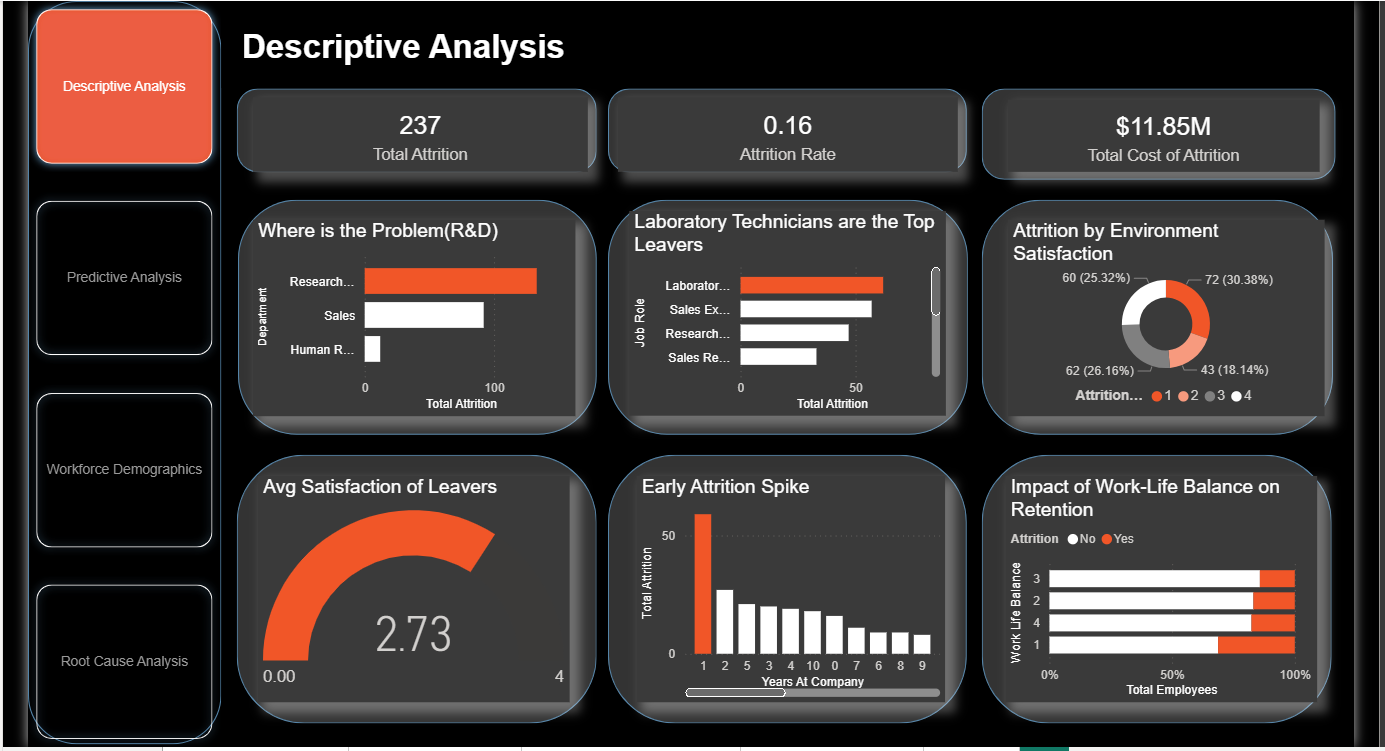

What the dashboard file says about the page in this screenshot:
{"tool":"powerbi","page":{"name":"Descriptive Analysis","canvas":[1280,720],"ordinal":0},"visuals":[{"type":"shape","box":[569.4,247.3,336.6,190.6],"z":1000},{"type":"shape","box":[929,247.3,330.6,190.6],"z":2000},{"type":"shape","box":[201.5,247.3,339,190.6],"z":3000},{"type":"shape","box":[201.5,106.2,339,111],"z":4000},{"type":"shape","box":[569.4,466.9,336.6,219.6],"z":5000},{"type":"shape","box":[929,466.9,329.4,220.8],"z":6000},{"type":"shape","box":[201.5,466.9,339,219.6],"z":7000},{"type":"shape","box":[929,106.2,330.6,111],"z":8000},{"type":"shape","box":[559.8,103.8,346.2,111],"z":9000},{"type":"card","fields":{"Values":["hr_project employee_data.Total Attrition"]},"box":[217.2,111,300.4,95.3],"z":10000},{"type":"card","fields":{"Values":["hr_project employee_data.Total Cost of Attrition"]},"box":[943.4,113.4,300.4,96.5],"z":11000},{"type":"card","fields":{"Values":["hr_project employee_data.Attrition Rate"]},"box":[573.1,111,319.7,95.3],"z":12000},{"type":"clusteredBarChart","title":"Where is the Problem(R&D)","fields":{"Category":["hr_project employee_data.Department"],"Y":["hr_project employee_data.Total Attrition"]},"box":[217.2,266.6,311.3,152],"z":13000},{"type":"textbox","box":[201.5,21.7,1058,60.3],"z":13500},{"type":"clusteredBarChart","title":"Laboratory Technicians are the Top Leavers","fields":{"Category":["hr_project employee_data.JobRole"],"Y":["hr_project employee_data.Total Attrition"]},"box":[587.5,266.6,305.2,152],"z":14000},{"type":"donutChart","title":"Attrition by Environment Satisfaction","fields":{"Category":["hr_project employee_data.EnvironmentSatisfaction"],"Y":["hr_project employee_data.Total Attrition"]},"box":[943.4,271.4,305.2,152],"z":15000},{"type":"clusteredColumnChart","title":"Early Attrition Spike","fields":{"Category":["hr_project employee_data.YearsAtCompany"],"Y":["hr_project employee_data.Total Attrition"]},"box":[587.5,486.2,305.2,166.5],"z":16000},{"type":"hundredPercentStackedBarChart","title":"Impact of Work-Life Balance on Retention","fields":{"Category":["hr_project employee_data.WorkLifeBalance"],"Series":["hr_project employee_data.Attrition"],"Y":["hr_project employee_data.Total Employees"]},"box":[957.9,500.7,285.9,152],"z":17000},{"type":"gauge","title":"Avg Satisfaction of Leavers","fields":{"Y":["Avg(hr_project employee_data.JobSatisfaction)"],"TargetValue":["Retention Improvement %.Maximum job Satisfaction"]},"box":[217.2,486.2,300.4,188.2],"z":18000},{"type":"shape","box":[0,0,186.7,717.3],"z":20000},{"type":"pageNavigator","box":[0,0,186.7,720],"z":20500}]}

Visuals, with their boxes on the page's 1280x720 design canvas (x1, y1, x2, y2). These are canvas units, not pixel positions in the 1385x751 screenshot, which may show the page scaled, cropped or inside an application window:
shape: [left=569, top=247, right=906, bottom=438]
shape: [left=929, top=247, right=1260, bottom=438]
shape: [left=202, top=247, right=540, bottom=438]
shape: [left=202, top=106, right=540, bottom=217]
shape: [left=569, top=467, right=906, bottom=686]
shape: [left=929, top=467, right=1258, bottom=688]
shape: [left=202, top=467, right=540, bottom=686]
shape: [left=929, top=106, right=1260, bottom=217]
shape: [left=560, top=104, right=906, bottom=215]
card - hr_project employee_data.Total Attrition: [left=217, top=111, right=518, bottom=206]
card - hr_project employee_data.Total Cost of Attrition: [left=943, top=113, right=1244, bottom=210]
card - hr_project employee_data.Attrition Rate: [left=573, top=111, right=893, bottom=206]
"Where is the Problem(R&D)" clusteredBarChart: [left=217, top=267, right=528, bottom=419]
textbox: [left=202, top=22, right=1260, bottom=82]
"Laboratory Technicians are the Top Leavers" clusteredBarChart: [left=588, top=267, right=893, bottom=419]
"Attrition by Environment Satisfaction" donutChart: [left=943, top=271, right=1249, bottom=423]
"Early Attrition Spike" clusteredColumnChart: [left=588, top=486, right=893, bottom=653]
"Impact of Work-Life Balance on Retention" hundredPercentStackedBarChart: [left=958, top=501, right=1244, bottom=653]
"Avg Satisfaction of Leavers" gauge: [left=217, top=486, right=518, bottom=674]
shape: [left=0, top=0, right=187, bottom=717]
pageNavigator: [left=0, top=0, right=187, bottom=720]
